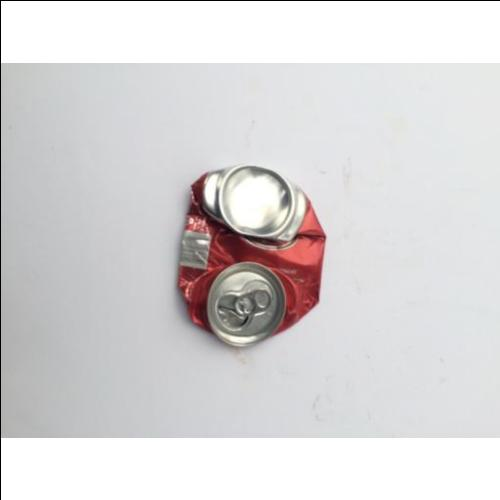metal: (176, 164, 326, 350)
